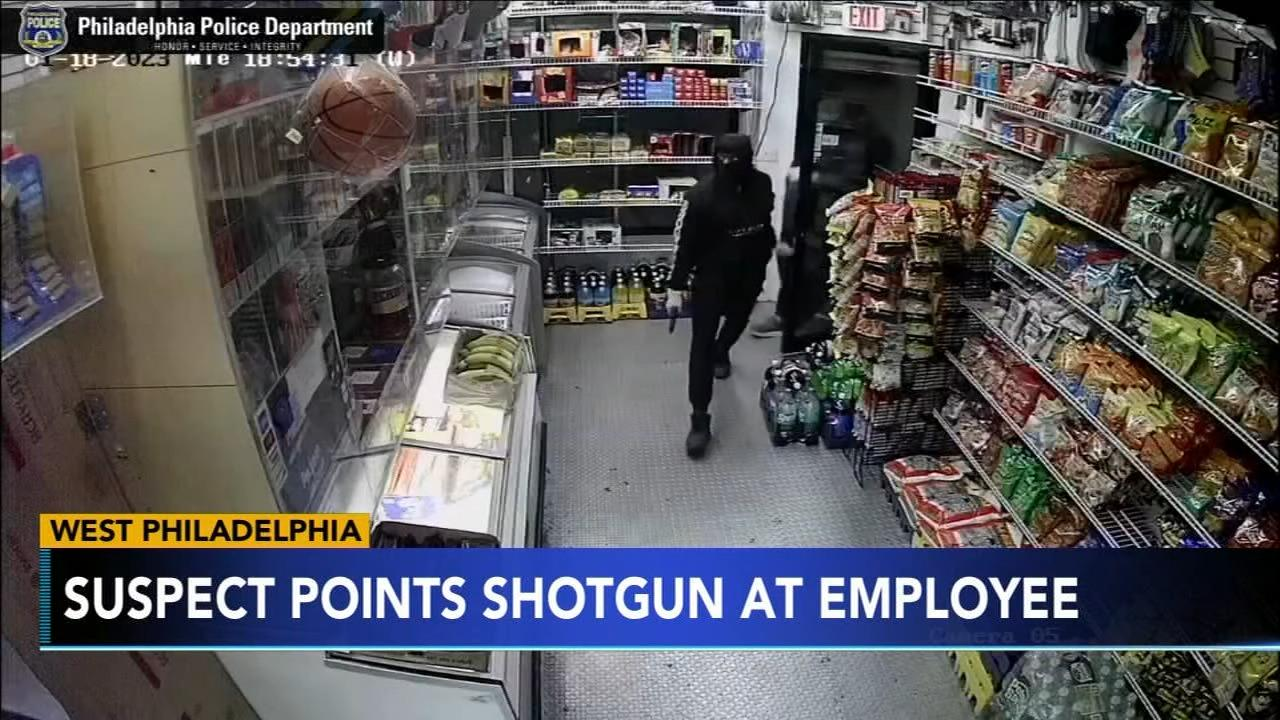pistol: (656, 296, 689, 338)
